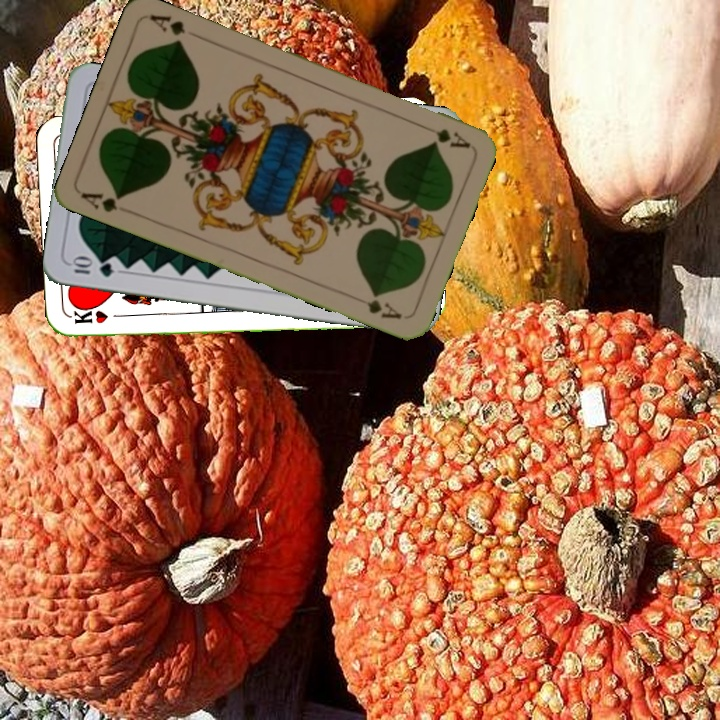G10: (67, 255, 116, 280)
GA: (416, 120, 473, 151), (78, 188, 126, 215)
HK: (70, 307, 130, 327)
